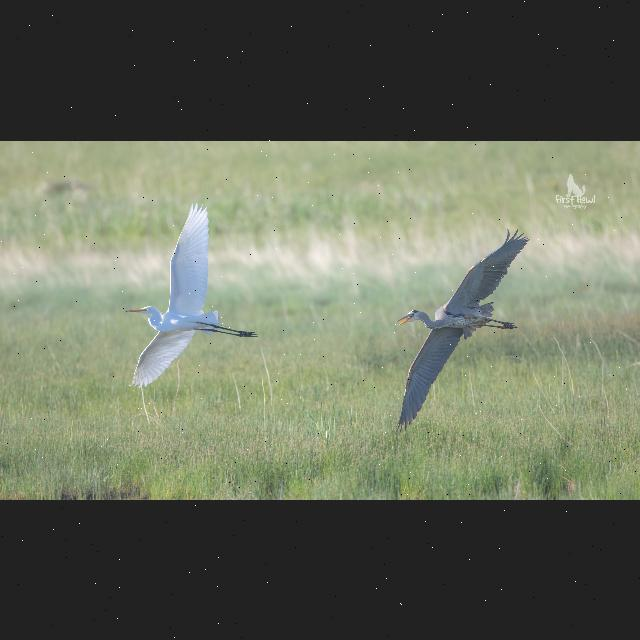egret: (120, 200, 262, 392)
heron: (385, 226, 527, 434)
